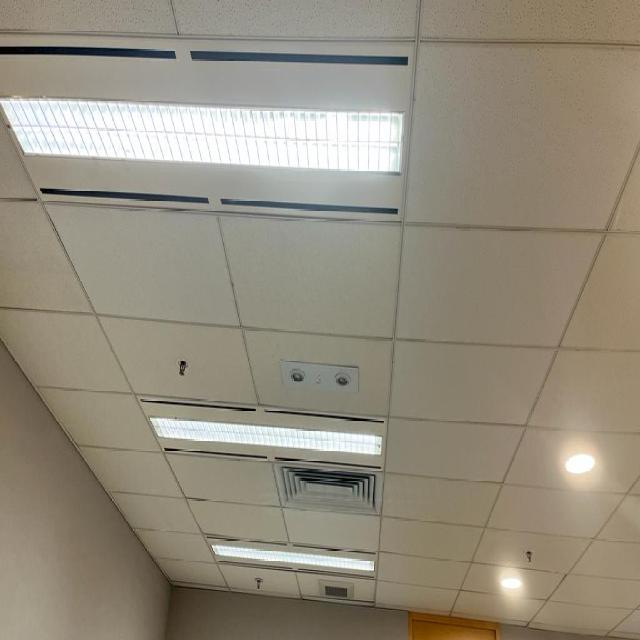Light-Opened: (2, 28, 416, 226), (136, 394, 385, 472), (204, 536, 377, 580), (562, 449, 597, 478), (498, 572, 526, 594)
